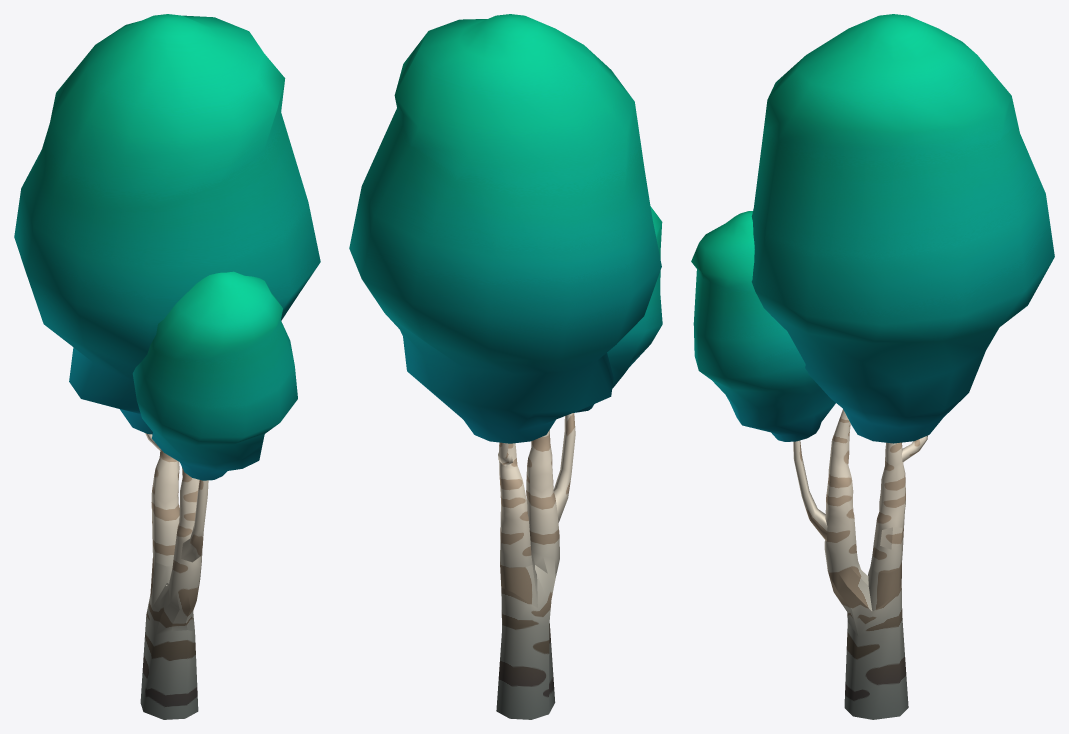
File: BIRCH02.fbx
3 renders of one model, left to right at view 1: azimuth 30°, elevation 25°; view 2: azimuth 150°, elevation 25°; view 3: azimuth 270°, elevation 25°, orthographic.
Parts seen in each view (by area): view 1: TREE_MAIN_LEAVES, TREE_MAIN_LEAVES2, BIRCH02; view 2: TREE_MAIN_LEAVES, BIRCH02, TREE_MAIN_LEAVES2; view 3: TREE_MAIN_LEAVES, BIRCH02, TREE_MAIN_LEAVES2.
Boxes of the visible parts, x1,y1,x2,y2 form: TREE_MAIN_LEAVES: (14,14,320,434); TREE_MAIN_LEAVES2: (132,271,297,480); BIRCH02: (140,433,208,719); TREE_MAIN_LEAVES: (349,14,661,443); BIRCH02: (496,413,575,719); TREE_MAIN_LEAVES2: (573,206,662,412); TREE_MAIN_LEAVES: (751,14,1054,443); BIRCH02: (793,409,927,719); TREE_MAIN_LEAVES2: (691,211,835,441).
Bounding box in the file's own units: 3.14 × 7.67 × 3.66.
